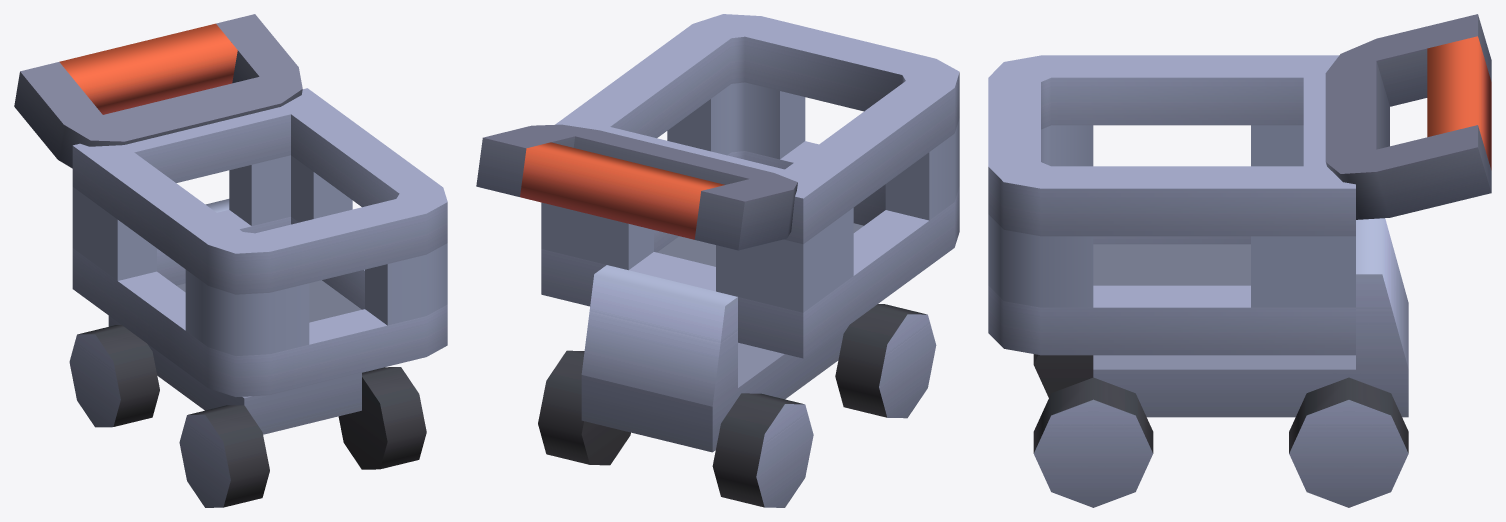
Rendered from kundvagn.glb.
3 views of the same model, side by side, from view 1: azimuth 30°, elevation 25°; view 2: azimuth 150°, elevation 25°; view 3: azimuth 270°, elevation 25° (orthographic). The views are drawn at different scales.
Parts seen in each view (by area): view 1: shopping-cart; view 2: shopping-cart; view 3: shopping-cart.
Part boxes in pixels (x1,y1,x2,y2): shopping-cart: [14, 14, 447, 507]; shopping-cart: [476, 14, 959, 507]; shopping-cart: [988, 14, 1491, 507].
Size of the model in its own units: 0.3 by 0.3906 by 0.4789.
1 material, 1 textured.
